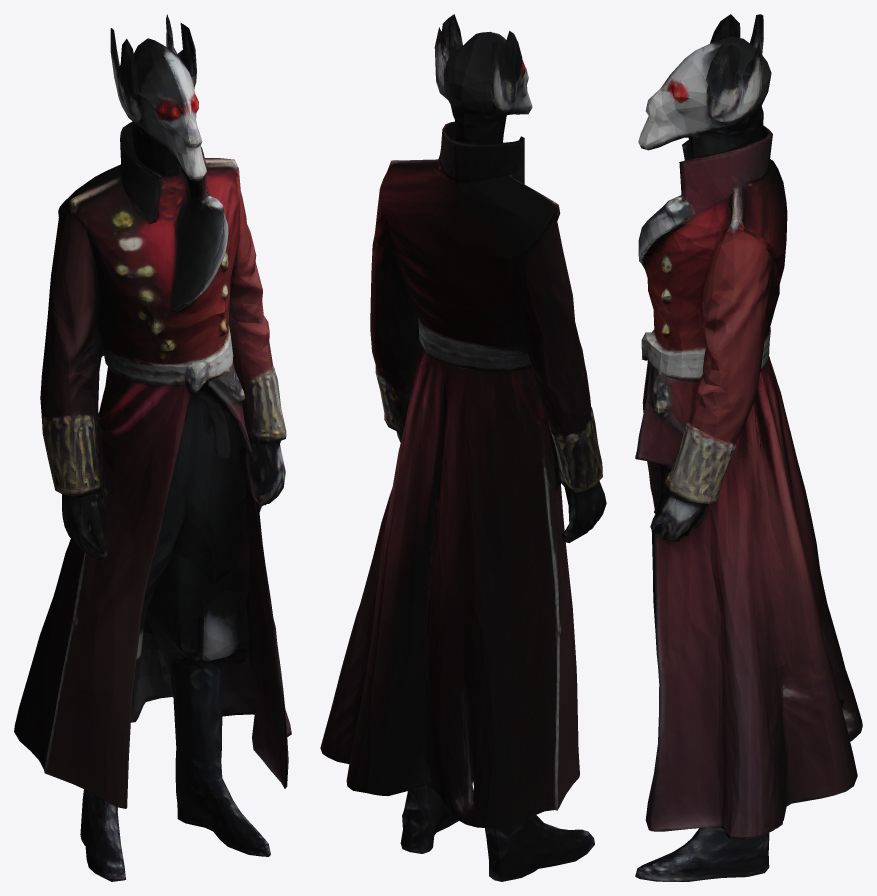
Rendered from heinrich_zemo.glb.
The picture shows the model from 3 angles, left to right: view 1: azimuth 30°, elevation 25°; view 2: azimuth 150°, elevation 25°; view 3: azimuth 270°, elevation 25°; orthographic projection. The views are drawn at different scales.
Visible parts, largest first — view 1: world; view 2: world; view 3: world.
Part boxes in pixels (x1=…): world: x1=14, y1=14, x2=291, y2=881; world: x1=320, y1=14, x2=606, y2=881; world: x1=635, y1=14, x2=862, y2=881.
Bounding box in the file's own units: 0.327 × 1 × 0.2526.
1 material, 1 textured.
